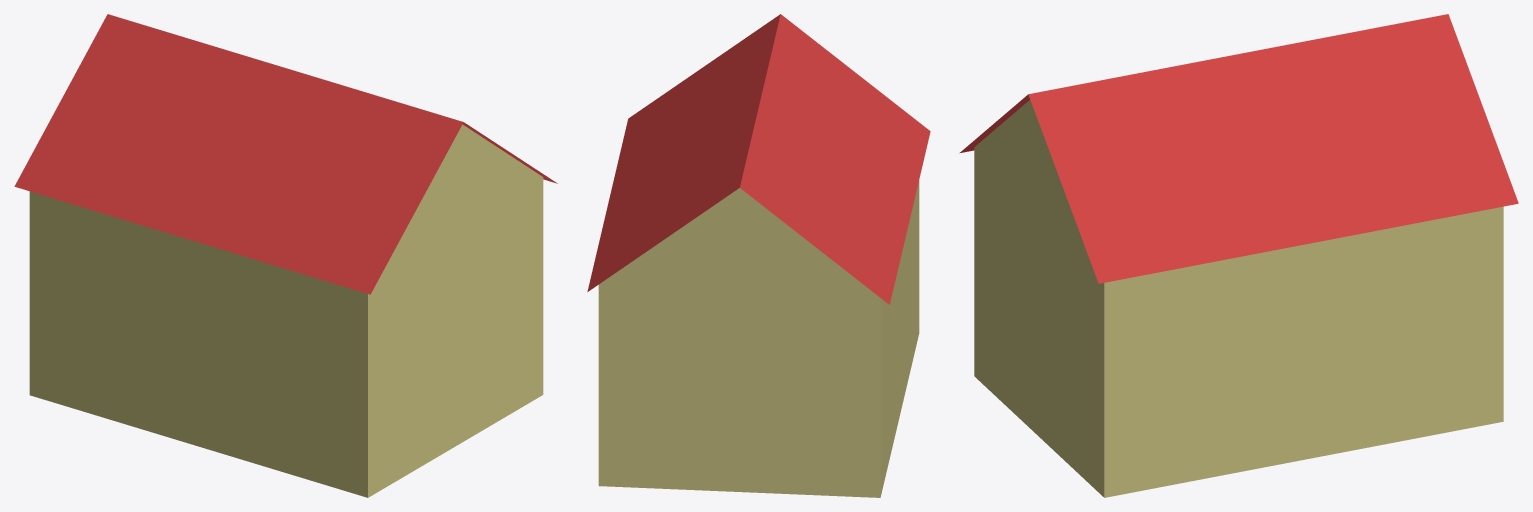
3 renders of one model, left to right at view 1: azimuth 30°, elevation 25°; view 2: azimuth 150°, elevation 25°; view 3: azimuth 270°, elevation 25°, orthographic. The views are drawn at different scales.
Size of the model in its own units: 21.8 by 24.47 by 16.6.
